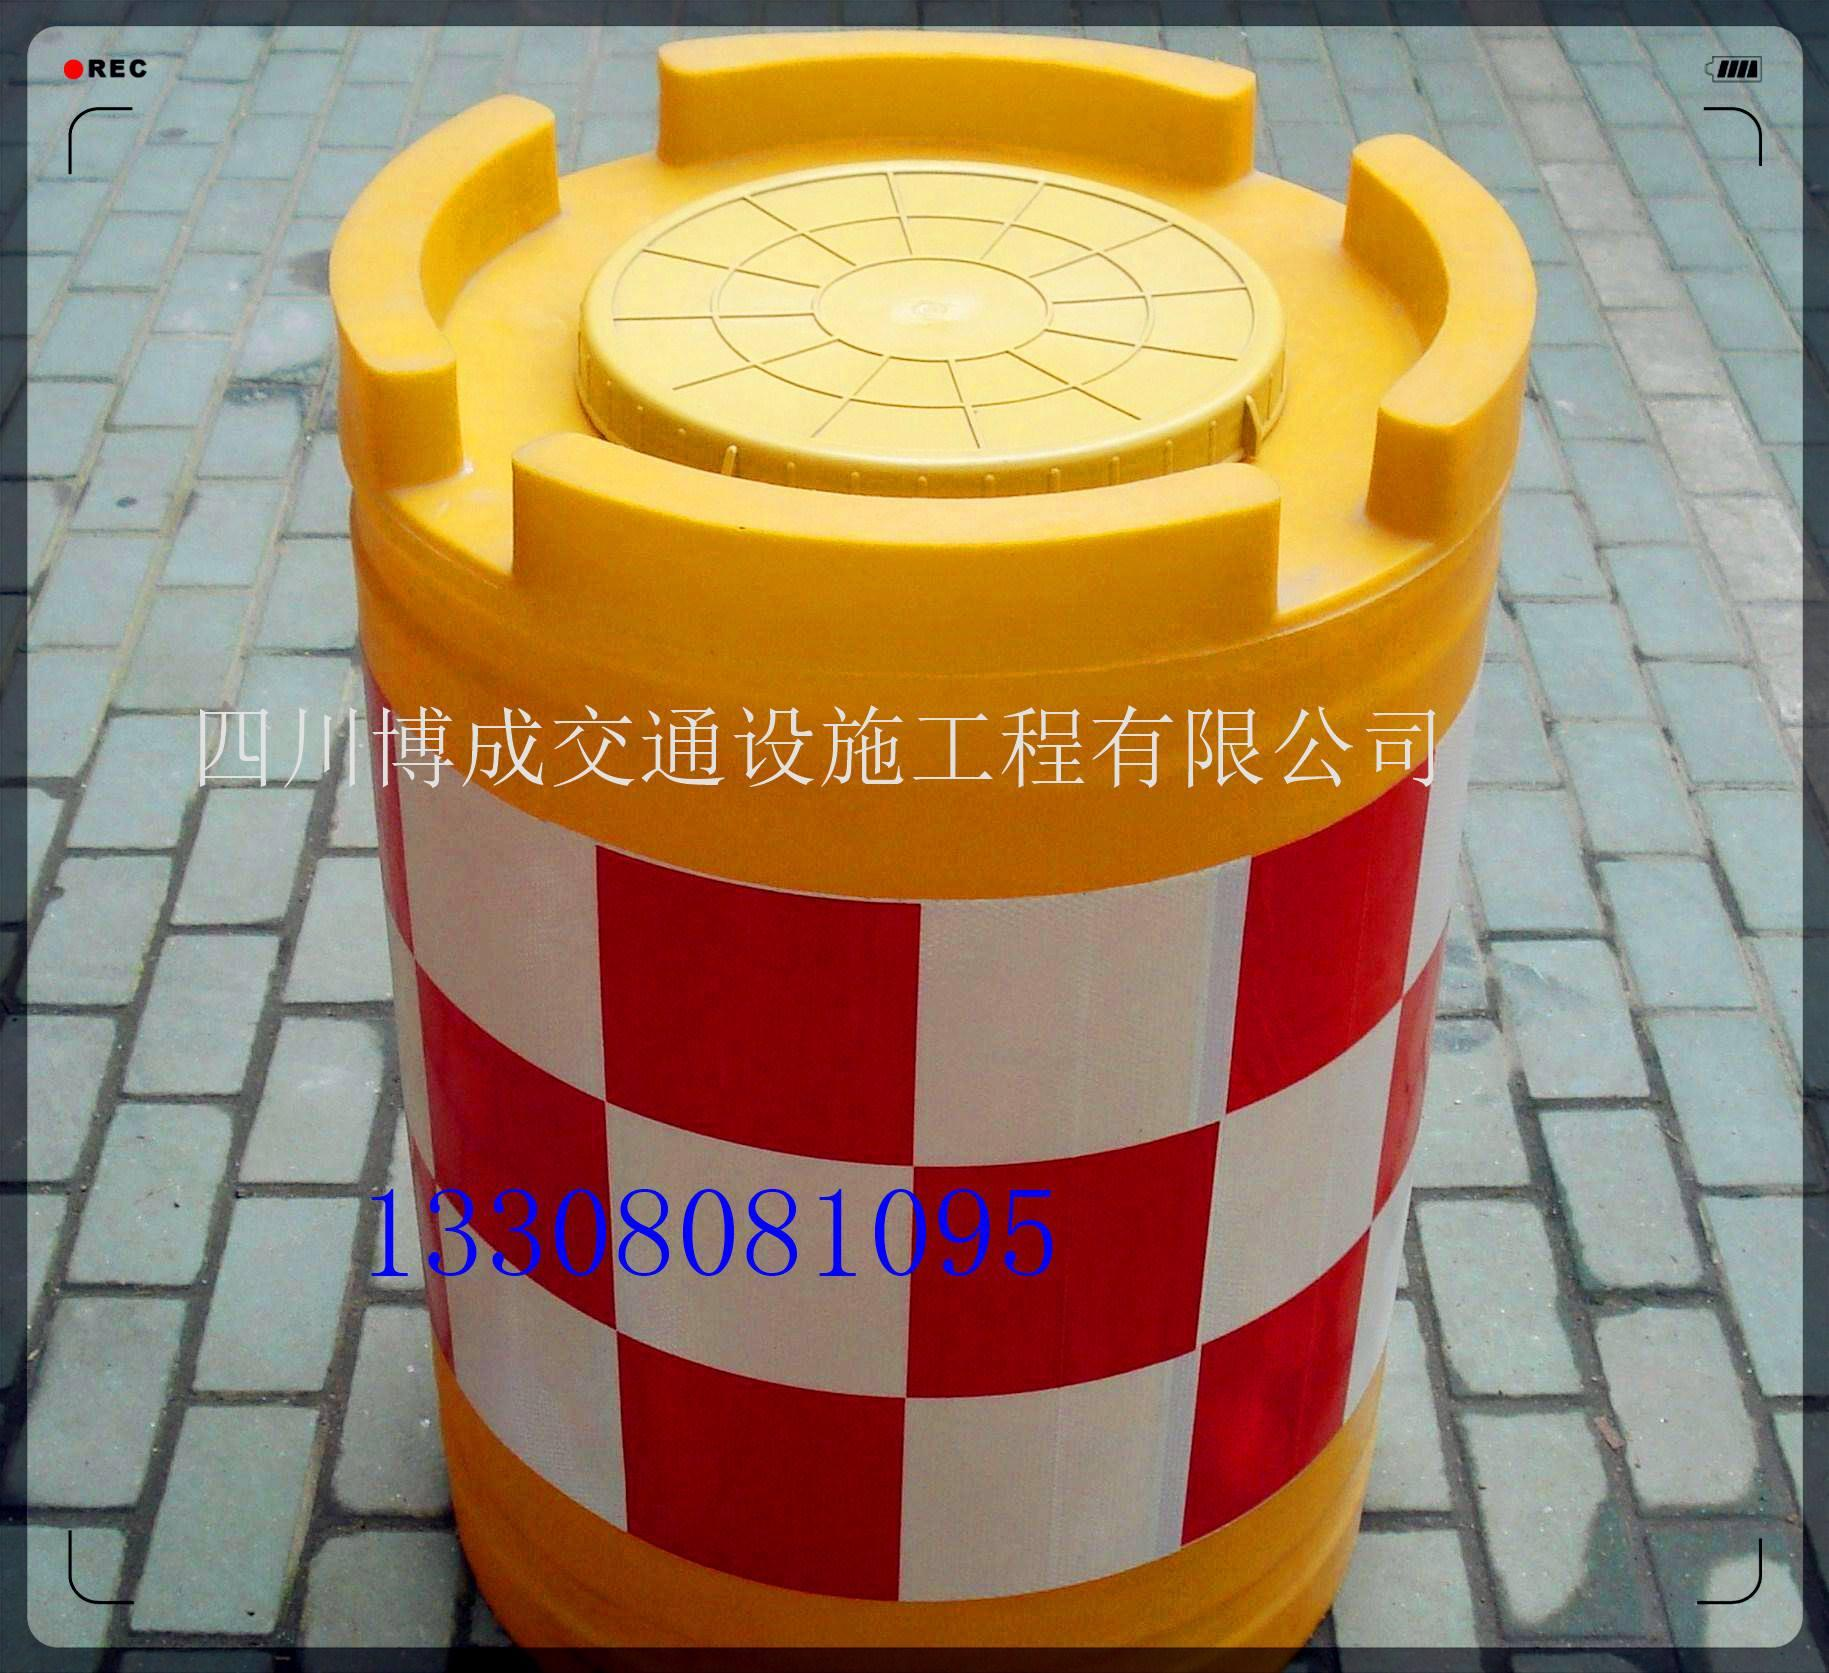sign: (249, 48, 1539, 1659)
